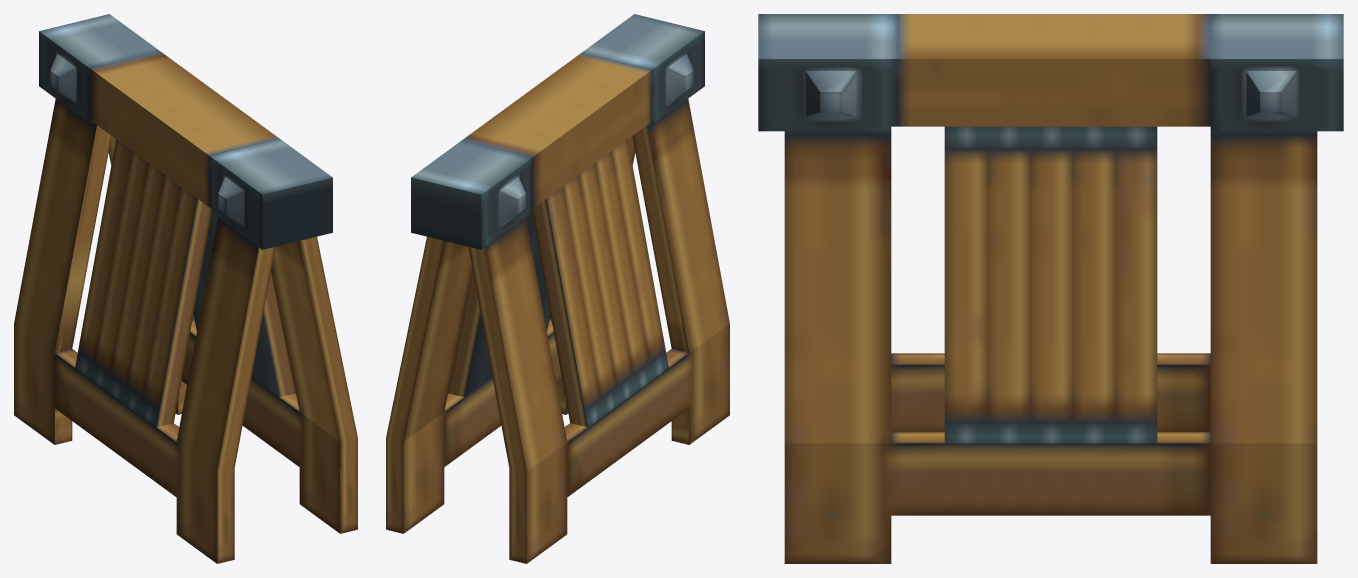
Rendered from Poly_Blockage_01.obj.
3 renders of one model, left to right at view 1: azimuth 30°, elevation 25°; view 2: azimuth 150°, elevation 25°; view 3: azimuth 270°, elevation 25°, orthographic. The views are drawn at different scales.
Visible parts, largest first — view 1: Cube, Cube.001; view 2: Cube, Cube.001; view 3: Cube, Cube.001.
Part boxes in pixels (left/top/right/bottom): Cube: left=14, top=99, right=357, bottom=563; Cube.001: left=39, top=14, right=332, bottom=249; Cube: left=386, top=99, right=729, bottom=563; Cube.001: left=411, top=14, right=704, bottom=249; Cube: left=784, top=126, right=1317, bottom=563; Cube.001: left=758, top=14, right=1343, bottom=131.
Size of the model in its own units: 0.2952 by 0.738 by 0.8119.
Materials: 1 (1 with a texture image).
